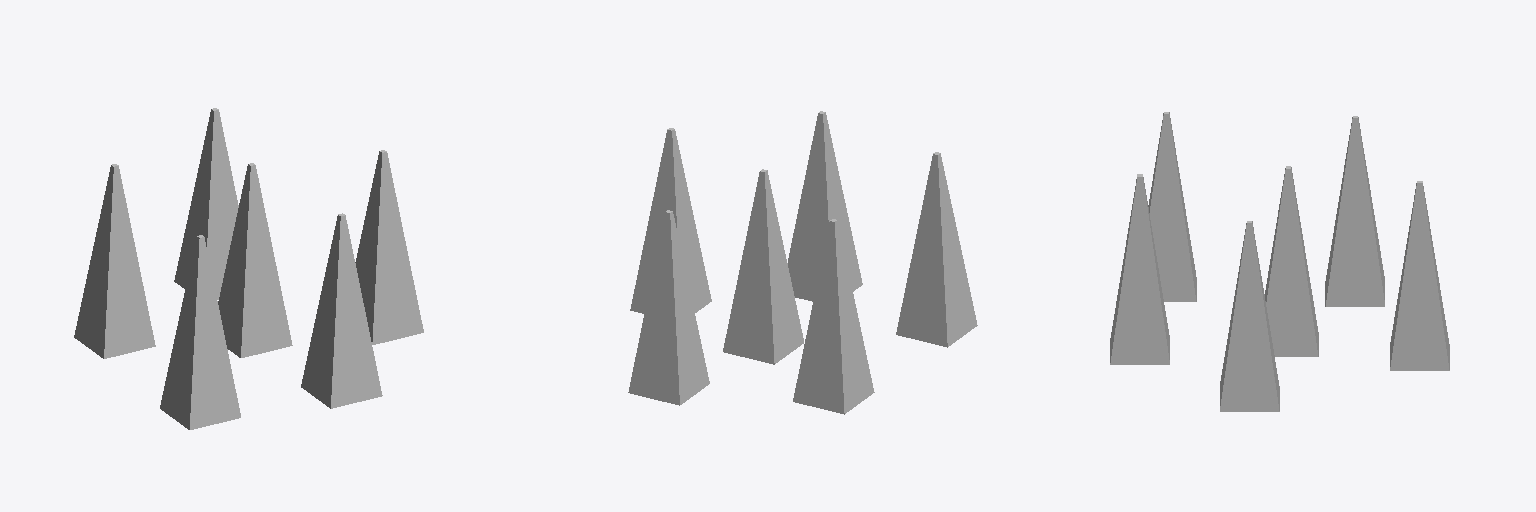
Rendered from Grass_1.obj.
3 renders of one model, left to right at view 1: azimuth 30°, elevation 25°; view 2: azimuth 150°, elevation 25°; view 3: azimuth 270°, elevation 25°, orthographic.
Visible parts, largest first — view 1: Cube.007_Cube.001, Cube.002_Cube.009, Cube_Cube.007, Cube.006_Cube.000, Cube.003_Cube.010, Cube.001_Cube.008; view 2: Cube.002_Cube.009, Cube_Cube.007, Cube.006_Cube.000, Cube.001_Cube.008, Cube.007_Cube.001, Cube.003_Cube.010; view 3: Cube.002_Cube.009, Cube.003_Cube.010, Cube.007_Cube.001, Cube.001_Cube.008, Cube.006_Cube.000, Cube_Cube.007.
Boxes of the visible parts, box(x1,y1,x2,y2) form: Cube.007_Cube.001: box(301, 213, 382, 408); Cube.002_Cube.009: box(74, 164, 155, 358); Cube_Cube.007: box(160, 235, 240, 429); Cube.006_Cube.000: box(218, 163, 292, 357); Cube.003_Cube.010: box(355, 150, 423, 344); Cube.001_Cube.008: box(174, 108, 238, 299); Cube.002_Cube.009: box(793, 219, 874, 414); Cube_Cube.007: box(896, 152, 977, 347); Cube.006_Cube.000: box(723, 169, 803, 364); Cube.001_Cube.008: box(628, 210, 709, 405); Cube.007_Cube.001: box(788, 111, 862, 301); Cube.003_Cube.010: box(630, 128, 711, 313); Cube.002_Cube.009: box(1325, 116, 1384, 306); Cube.003_Cube.010: box(1220, 221, 1279, 411); Cube.007_Cube.001: box(1110, 174, 1169, 364); Cube.001_Cube.008: box(1390, 181, 1449, 370); Cube.006_Cube.000: box(1265, 166, 1318, 356); Cube_Cube.007: box(1148, 112, 1196, 301).
Size of the model in its own units: 0.5364 by 0.3284 by 0.5712.